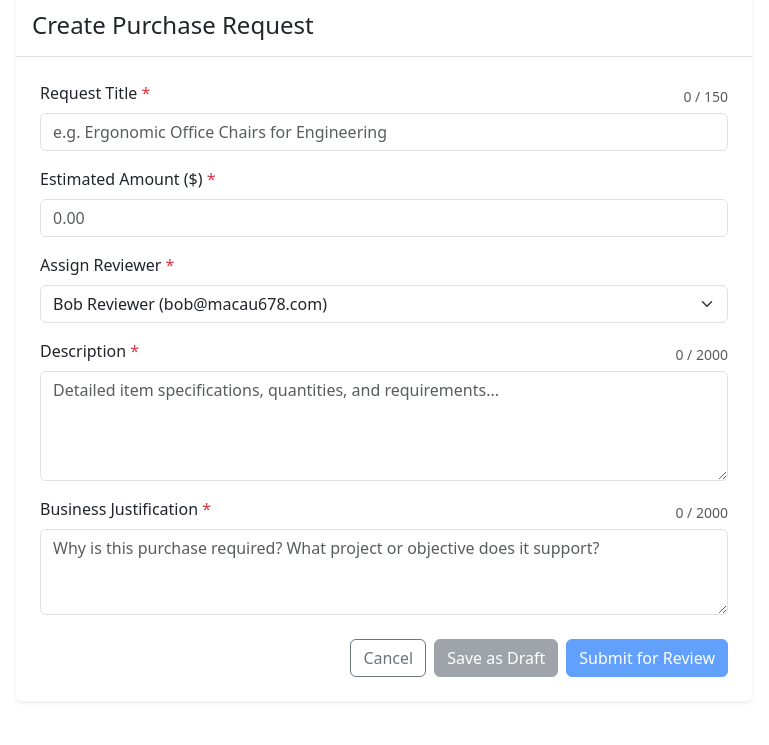
Test: Frontend component tests: Authentication and Authorization › TEST-COMP-02: Purchase request form and character counters (FEAT-03, FEAT-12, FR-02, NFR-02, AC-02) › renders character counters and validates minimum title length
Expected: the text "0 / 150" is shown, [684,86,728,107]
Type "AB" into the field labelled "Request Title *" at (384, 132), box [40,113,728,151]
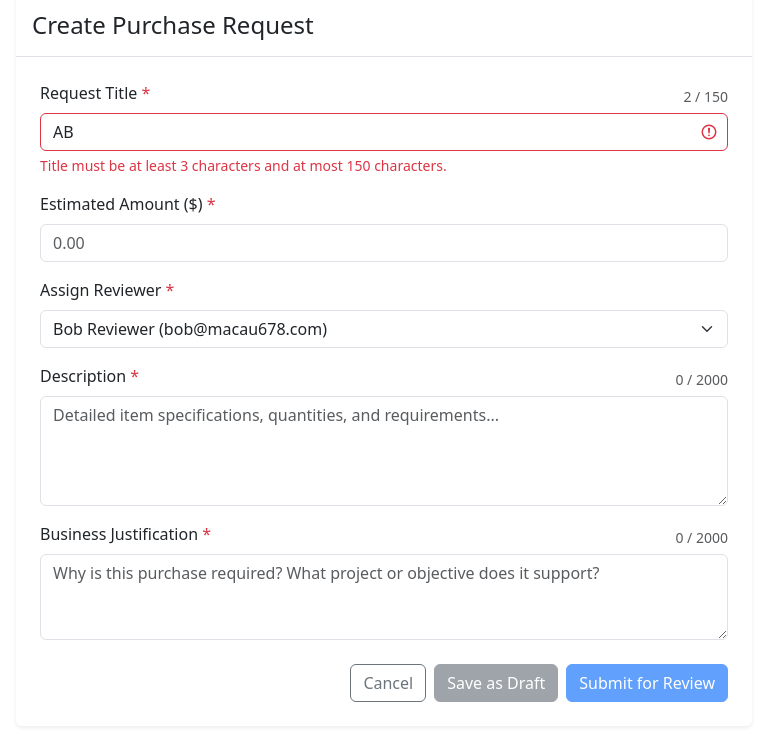
Now the text "2 / 150" is shown, box [684,86,728,107]
Now the text "Title must be at least 3 characters" is shown, box [40,156,447,175]
Replace the text in the field labelled "Request Title *" with "Valid Title Here" at (384, 132), box [40,113,728,151]
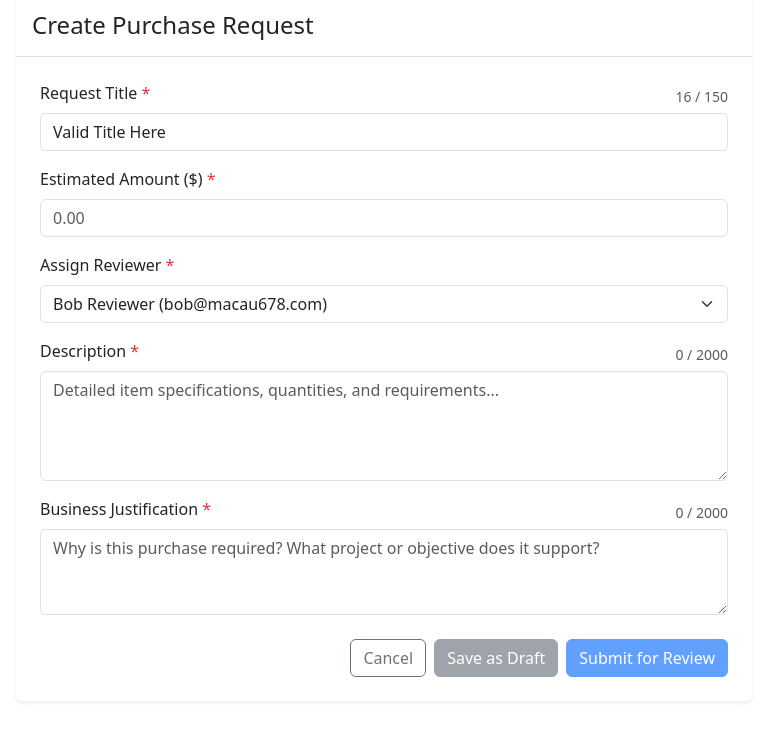
Now the text "16 / 150" is shown, box [676,86,728,107]
Now the text "Title must be at least 3 characters" is gone
